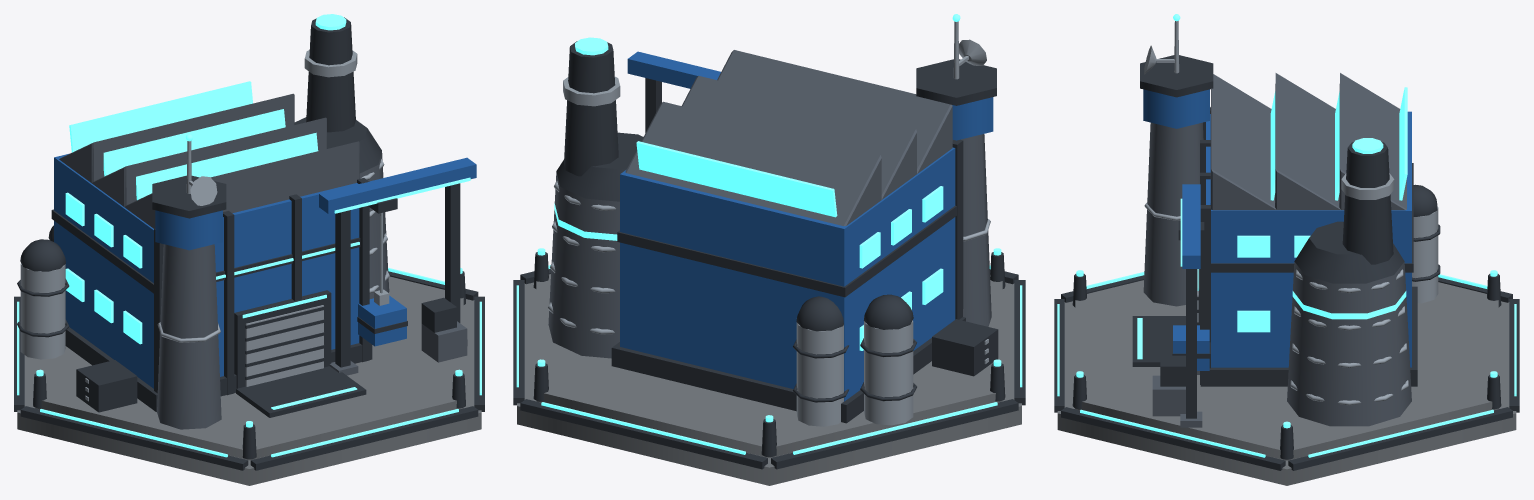
Rendered from factory-building.glb.
The picture shows the model from 3 angles, left to right: view 1: azimuth 30°, elevation 25°; view 2: azimuth 150°, elevation 25°; view 3: azimuth 270°, elevation 25°; orthographic projection. The views are drawn at different scales.
Parts seen in each view (by area): view 1: edge_trim_0, hall_body, base_plate, tooth_slope_0, edge_glow_0, door_shutter; view 2: hall_body, tooth_slope_0, edge_trim_0, base_plate, edge_glow_0, door_shutter; view 3: tooth_slope_0, base_plate, edge_trim_0, hall_body, edge_glow_0, door_shutter.
Boxes of the visible parts, left/top/right/bottom form: edge_trim_0: left=14, top=17, right=484, bottom=470; hall_body: left=54, top=153, right=476, bottom=388; base_plate: left=17, top=276, right=481, bottom=485; tooth_slope_0: left=59, top=93, right=467, bottom=429; edge_glow_0: left=17, top=14, right=481, bottom=457; door_shutter: left=20, top=50, right=389, bottom=401; hall_body: left=620, top=51, right=993, bottom=401; tooth_slope_0: left=548, top=50, right=991, bottom=358; edge_trim_0: left=513, top=41, right=1025, bottom=469; base_plate: left=517, top=274, right=1021, bottom=485; edge_glow_0: left=516, top=14, right=1022, bottom=454; door_shutter: left=548, top=21, right=990, bottom=426; tooth_slope_0: left=1143, top=73, right=1411, bottom=427; base_plate: left=1057, top=280, right=1516, bottom=485; edge_trim_0: left=1054, top=55, right=1519, bottom=470; hall_body: left=1143, top=89, right=1411, bottom=370; edge_glow_0: left=1057, top=14, right=1516, bottom=457; door_shutter: left=1144, top=21, right=1438, bottom=405.
Size of the model in its own units: 14.41 by 9.12 by 12.65.
